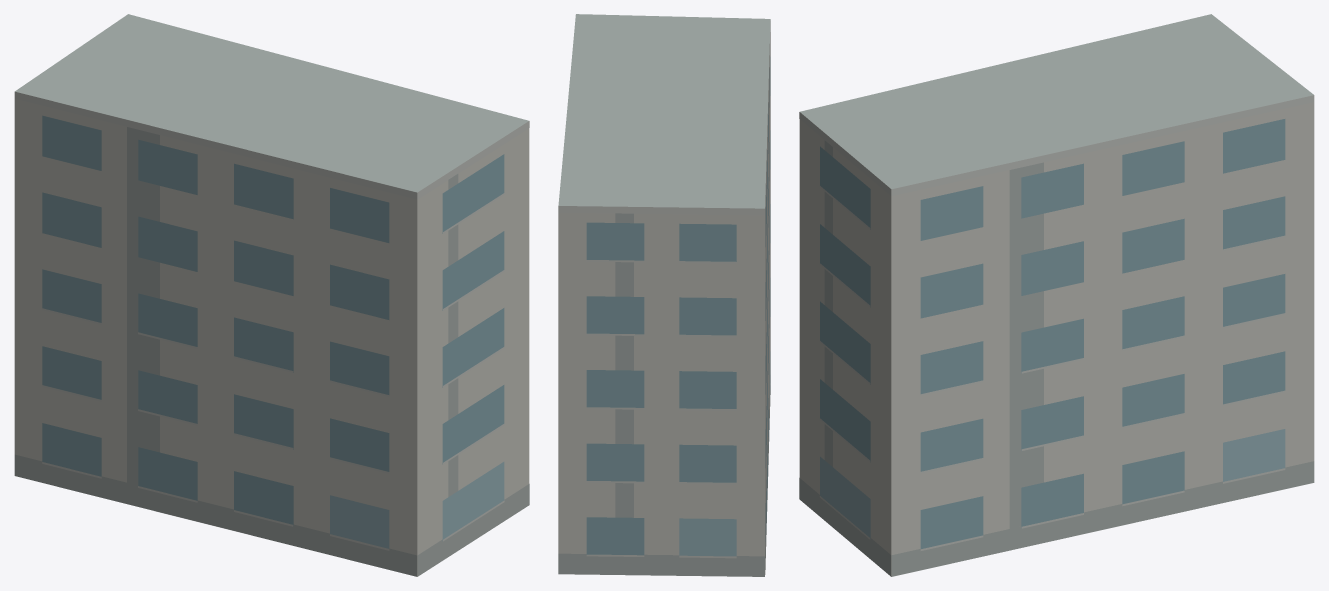
The model's file is survey-upis-32952542.glb.
The picture shows the model from 3 angles, left to right: view 1: azimuth 30°, elevation 25°; view 2: azimuth 150°, elevation 25°; view 3: azimuth 270°, elevation 25°; orthographic projection. The views are drawn at different scales.
Visible parts, largest first — view 1: survey-upis-32952542.tmp; view 2: survey-upis-32952542.tmp; view 3: survey-upis-32952542.tmp.
Part boxes in pixels (x1,y1,x2,y2): survey-upis-32952542.tmp: (14, 14, 529, 576); survey-upis-32952542.tmp: (558, 14, 770, 576); survey-upis-32952542.tmp: (799, 14, 1314, 576).
Bounding box in the file's own units: 12.86 × 13.25 × 15.96.
